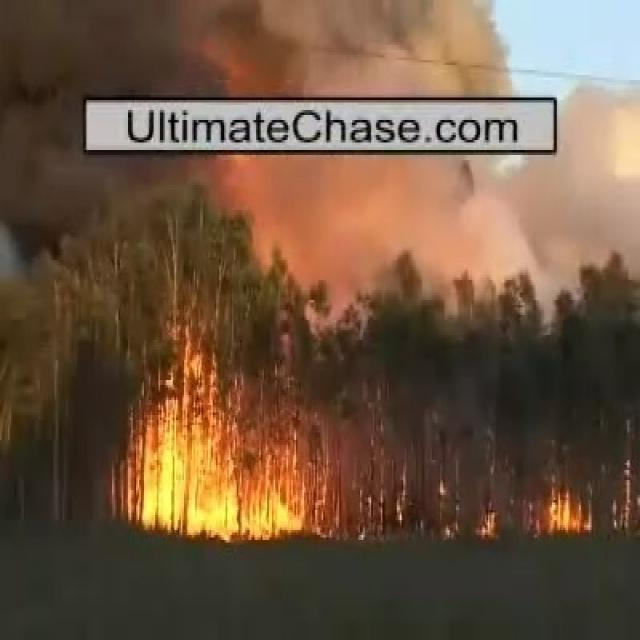fire: (126, 362, 304, 534)
smoke: (63, 2, 493, 92), (252, 158, 580, 245)
